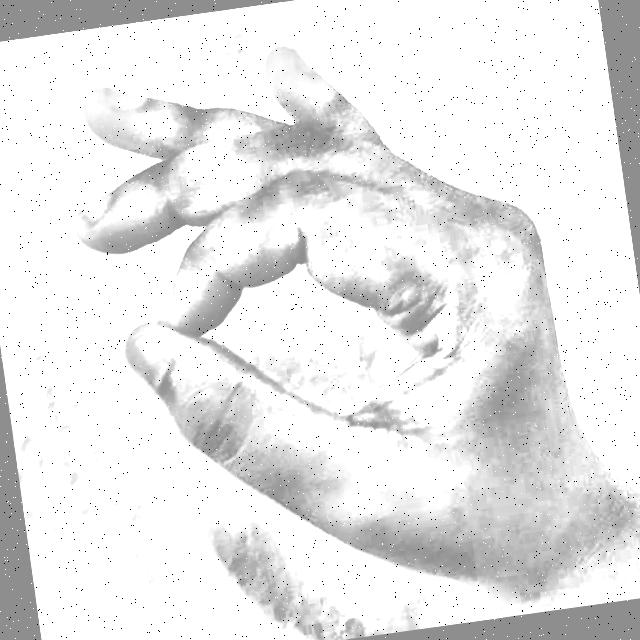Yo: (26, 0, 640, 640)
